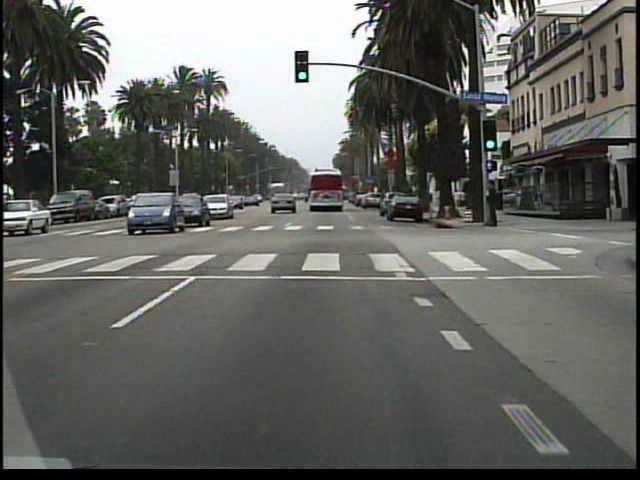person: (485, 177, 502, 230)
